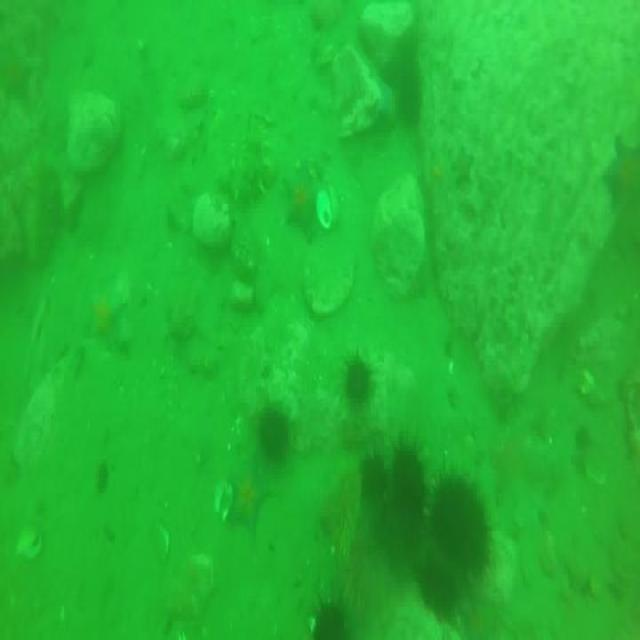echinus: (428, 466, 495, 578), (393, 433, 428, 510), (343, 351, 375, 408), (260, 406, 288, 468), (361, 442, 385, 509), (313, 600, 346, 640)
holothurian: (234, 109, 270, 215)
scallop: (318, 182, 342, 230), (12, 523, 44, 559), (214, 481, 236, 522)
starfish: (287, 158, 323, 237), (232, 469, 272, 539)
